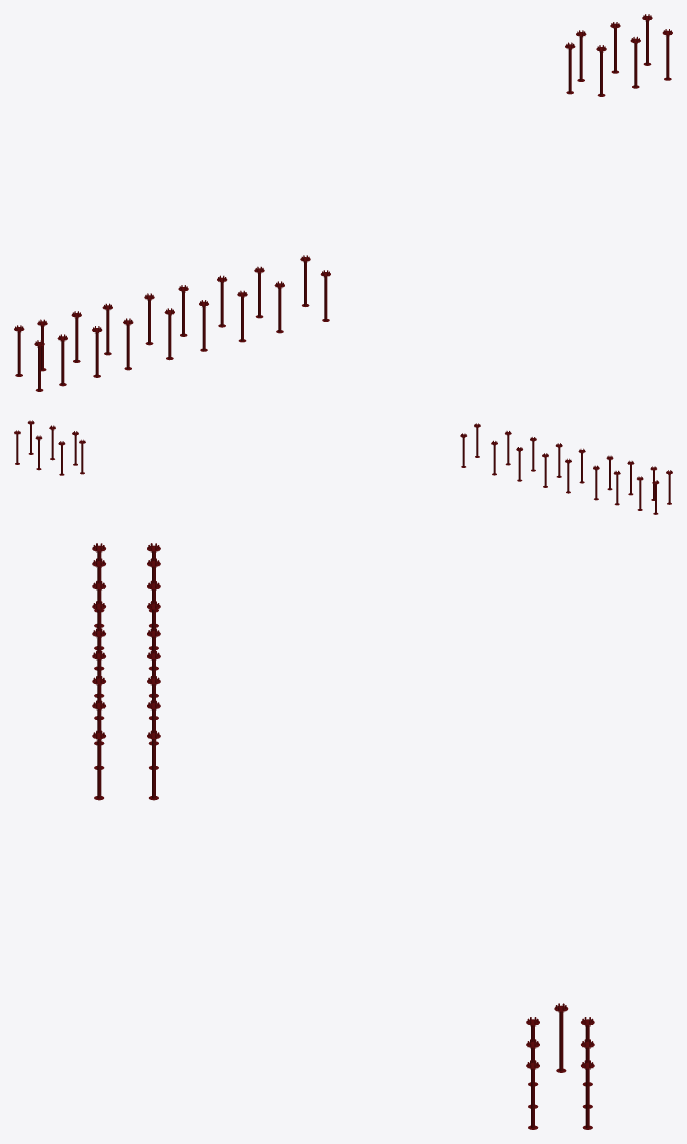
File: red_coattr.FBX
3 views of the same model, one above another, from view 1: azimuth 30°, elevation 25°; view 2: azimuth 150°, elevation 25°; view 3: azimuth 270°, elevation 25° (orthographic). The views are drawn at different scales.
Parts seen in each view (by area): view 1: red_coattr; view 2: red_coattr; view 3: red_coattr.
Part boxes in pixels (x1,y1,x2,y2): red_coattr: (14, 14, 672, 391); red_coattr: (14, 420, 672, 514); red_coattr: (92, 543, 594, 1129).
Size of the model in its own units: 2768 by 1124 by 162.
